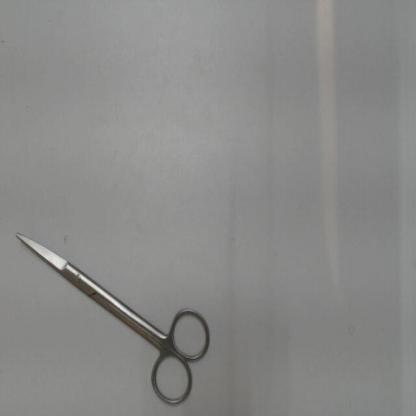Curved Mayo Scissors: (10, 227, 218, 415)
